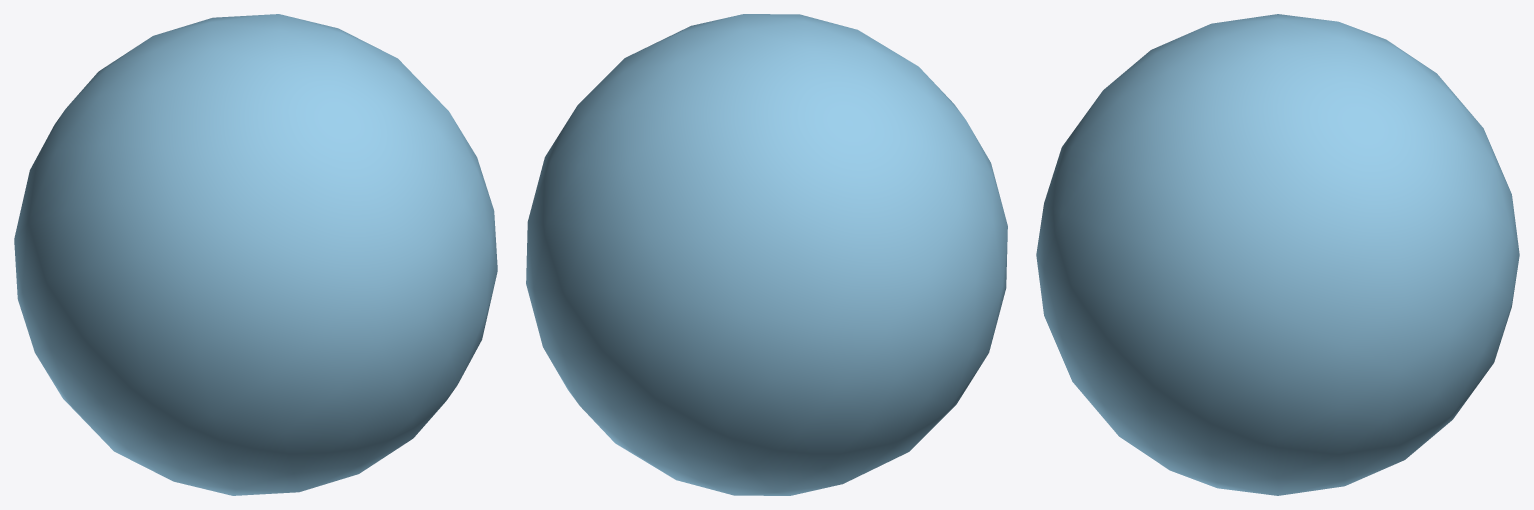
Rendered from bubble.glb.
The picture shows the model from 3 angles, left to right: view 1: azimuth 30°, elevation 25°; view 2: azimuth 150°, elevation 25°; view 3: azimuth 270°, elevation 25°; orthographic projection.
Visible parts, largest first — view 1: Icosphere_0_0; view 2: Icosphere_0_0; view 3: Icosphere_0_0.
Boxes of the visible parts, x1,y1,x2,y2 form: Icosphere_0_0: (14, 14, 497, 495); Icosphere_0_0: (526, 14, 1007, 495); Icosphere_0_0: (1036, 14, 1519, 495).
Size of the model in its own units: 1.99 by 1.99 by 2.
